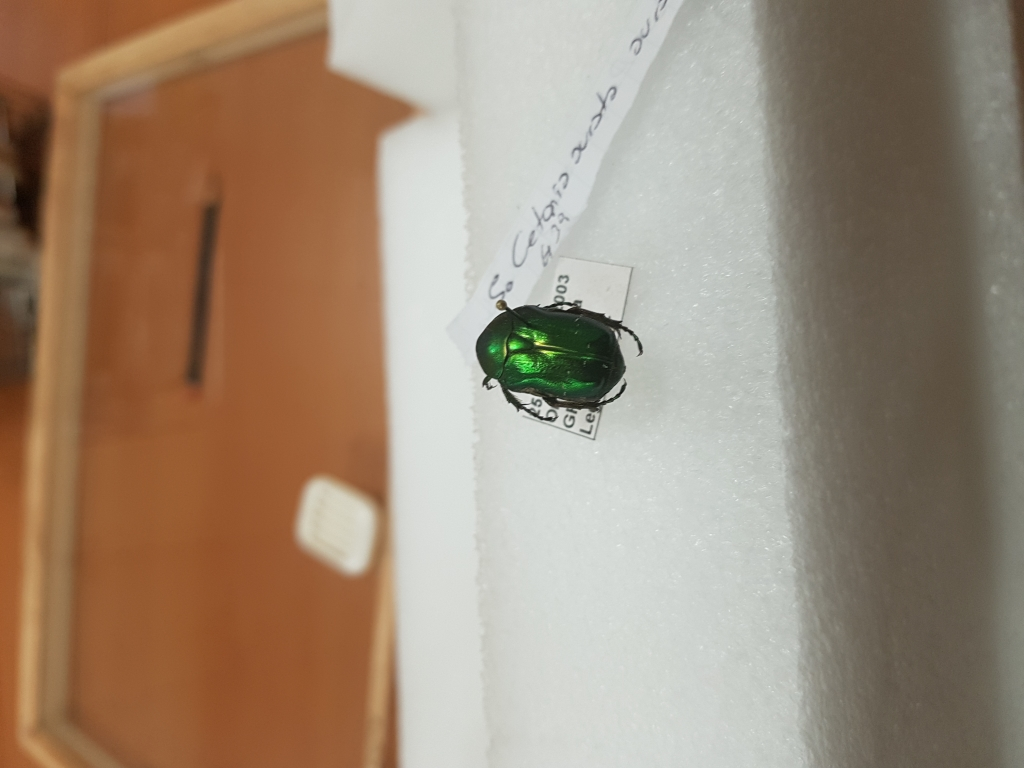Cetonia_aurata: (476, 297, 643, 430)
